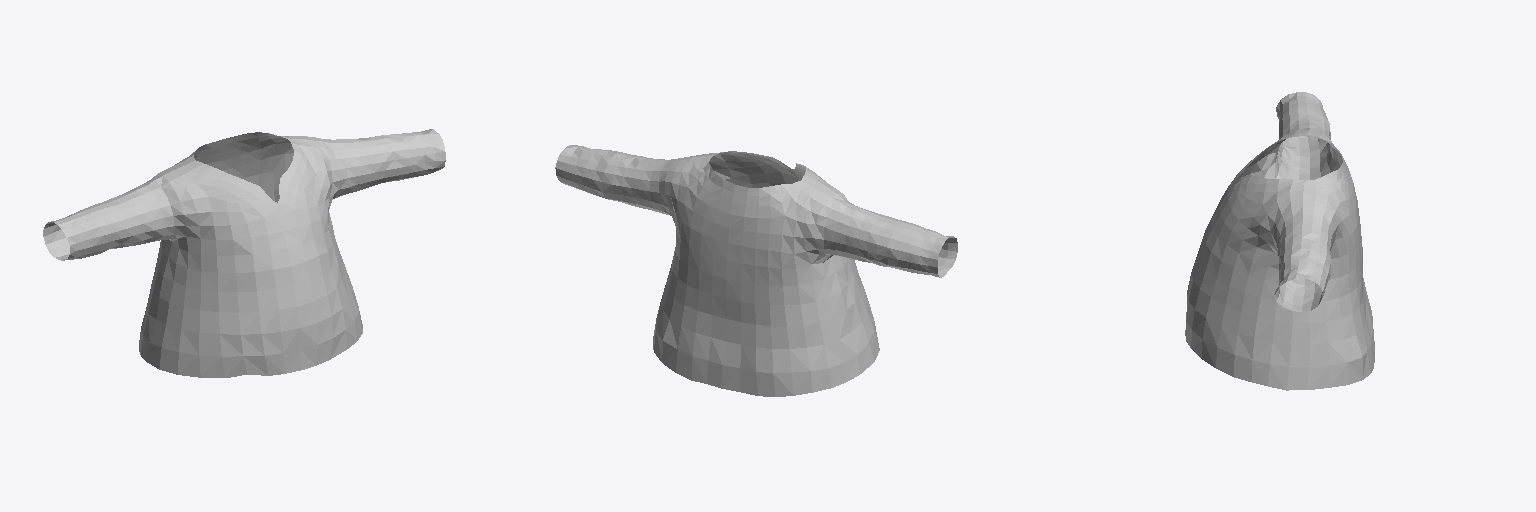
Rendered from shirt_low.obj.
3 views of the same model, side by side, from view 1: azimuth 30°, elevation 25°; view 2: azimuth 150°, elevation 25°; view 3: azimuth 270°, elevation 25° (orthographic).
Visible parts, largest first — view 1: polySurface1; view 2: polySurface1; view 3: polySurface1.
Part boxes in pixels (bbox=[...]): polySurface1: bbox=[43, 129, 445, 377]; polySurface1: bbox=[555, 145, 957, 396]; polySurface1: bbox=[1185, 92, 1374, 390].
Bounding box in the file's own units: 48.7 × 23.79 × 20.88.